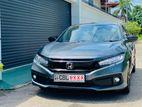car: (30, 23, 138, 96)
